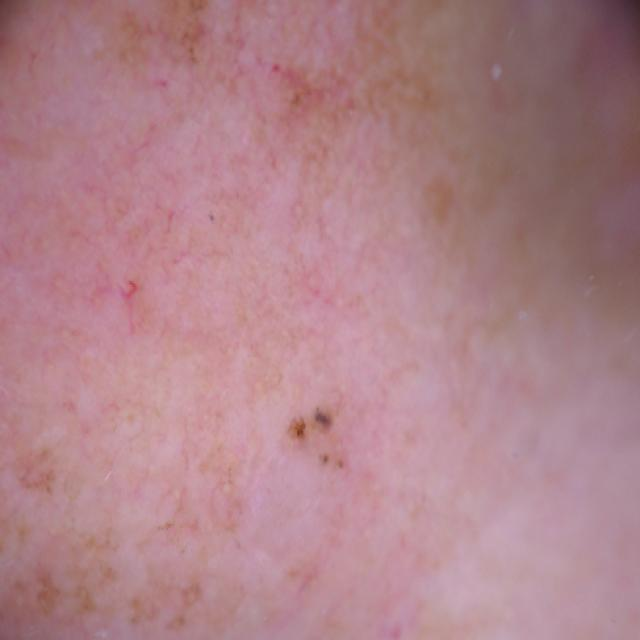Carcinoma: (124, 57, 424, 581)
